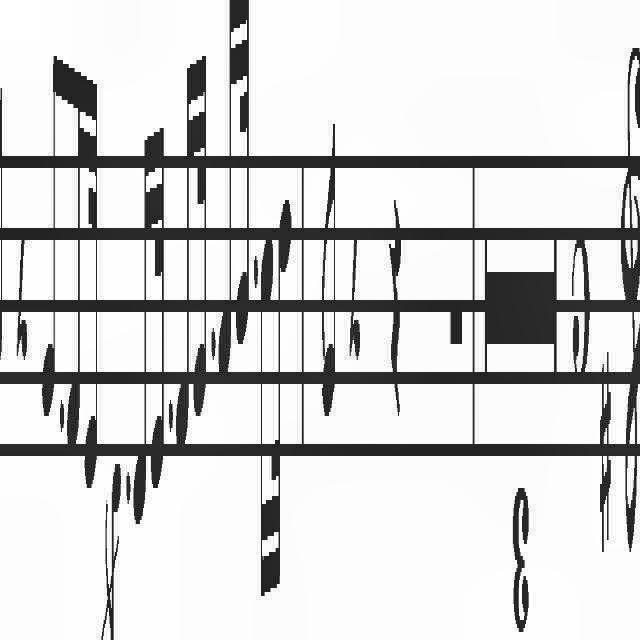Bass-clef: (614, 12, 640, 568)
Diez: (595, 326, 615, 570)
Eighth-note: (317, 123, 339, 441), (40, 42, 56, 434), (0, 56, 8, 396)
Eighth-rest: (346, 203, 362, 394), (15, 203, 30, 397)
Quarter-rest: (382, 146, 406, 440)
Sixteenth-note: (217, 3, 236, 397), (258, 207, 276, 609), (66, 52, 82, 480), (132, 134, 148, 534), (176, 36, 190, 477)
